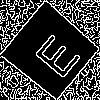E: (25, 25, 83, 81)
